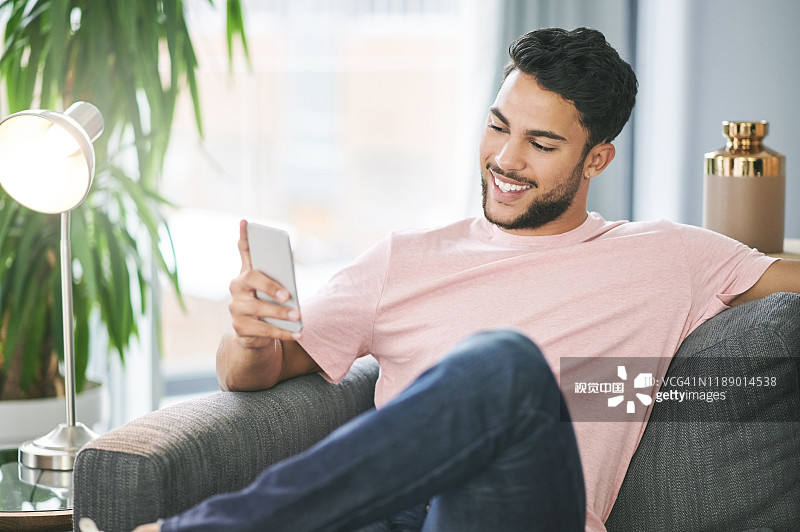reading: (214, 206, 309, 361)
